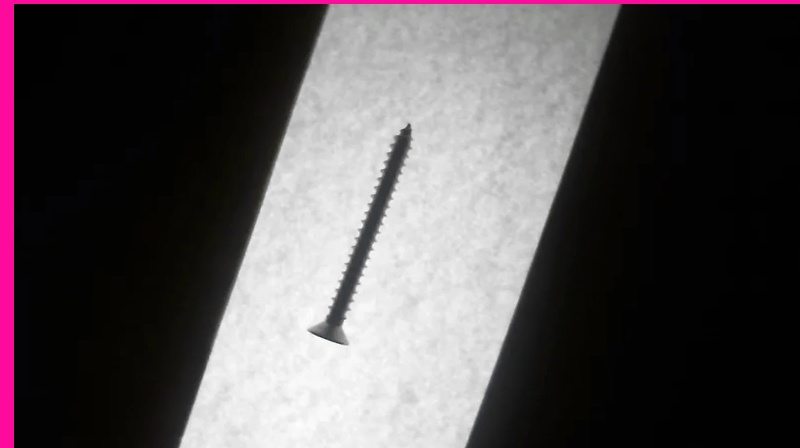S002: (303, 120, 414, 348)
